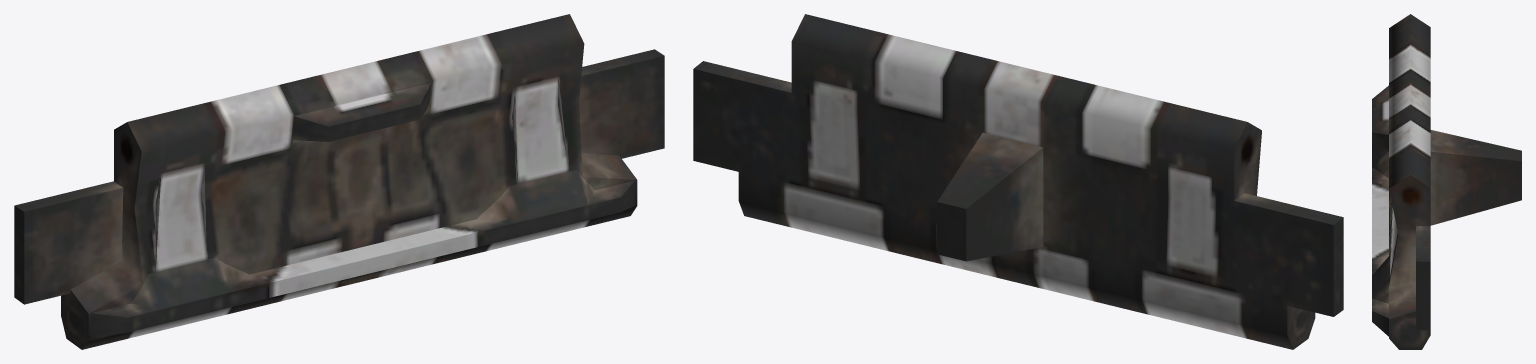
3 renders of one model, left to right at view 1: azimuth 30°, elevation 25°; view 2: azimuth 150°, elevation 25°; view 3: azimuth 270°, elevation 25°, orthographic. The views are drawn at different scales.
Visible parts, largest first — view 1: set_0_group_0; view 2: set_0_group_0; view 3: set_0_group_0.
Boxes of the visible parts, x1,y1,x2,y2 form: set_0_group_0: [14, 14, 664, 349]; set_0_group_0: [693, 14, 1343, 349]; set_0_group_0: [1372, 14, 1521, 349].
Size of the model in its own units: 0.7002 by 0.2188 by 0.1906.
1 material, 1 textured.
